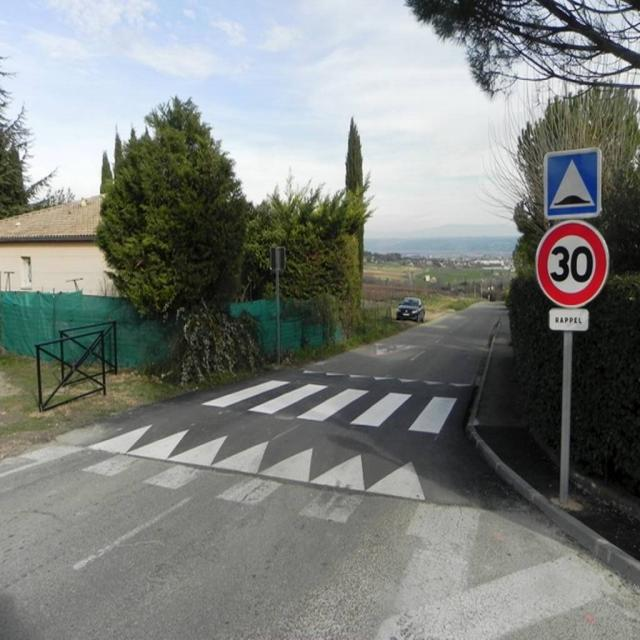hump: (543, 144, 604, 222)
